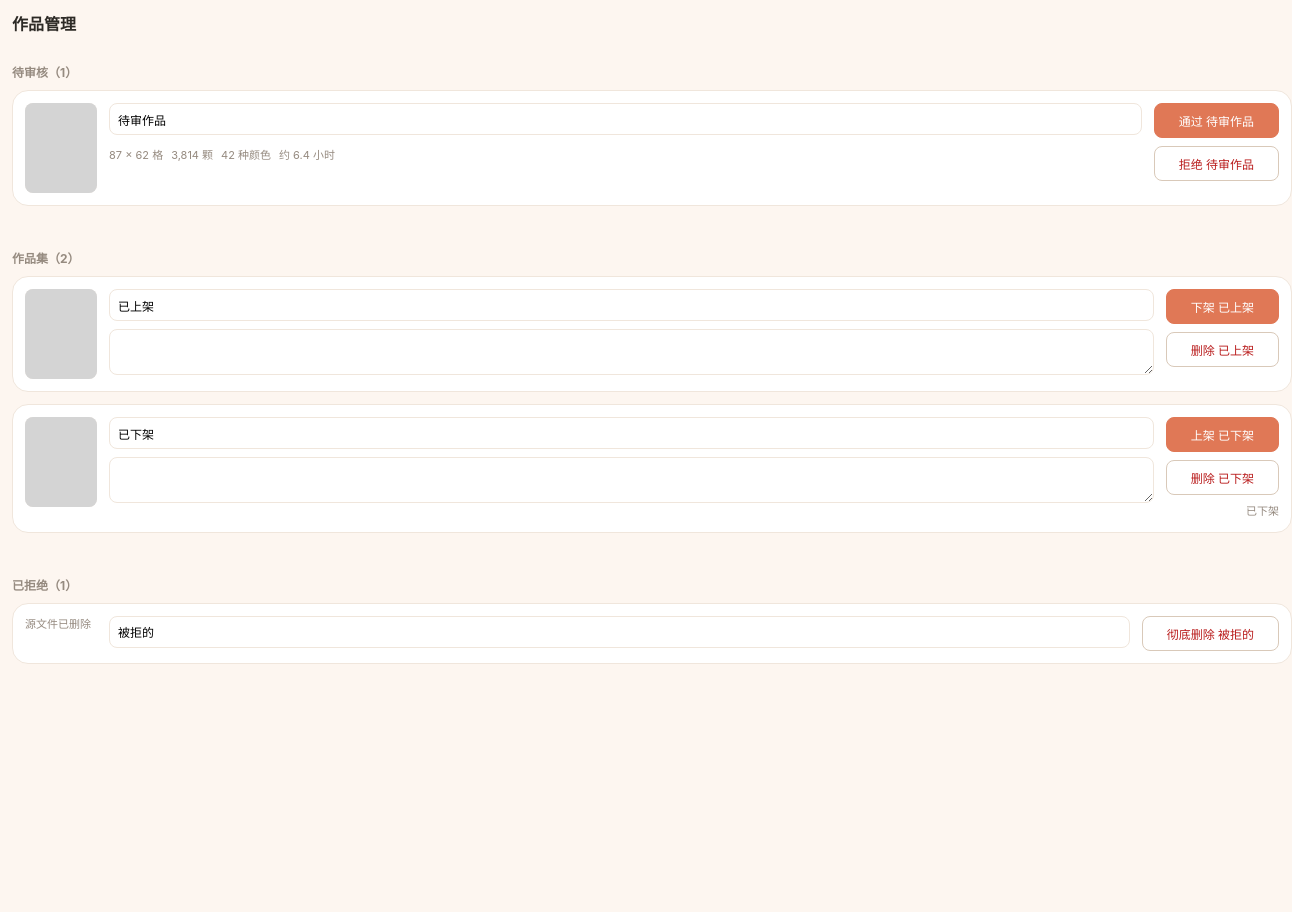
Test case: WorksTab 审核队列 › 点通过后行进入作品集并已上架
Click the button "通过 待审作品" at (1216, 120), box [1154,103,1279,138]
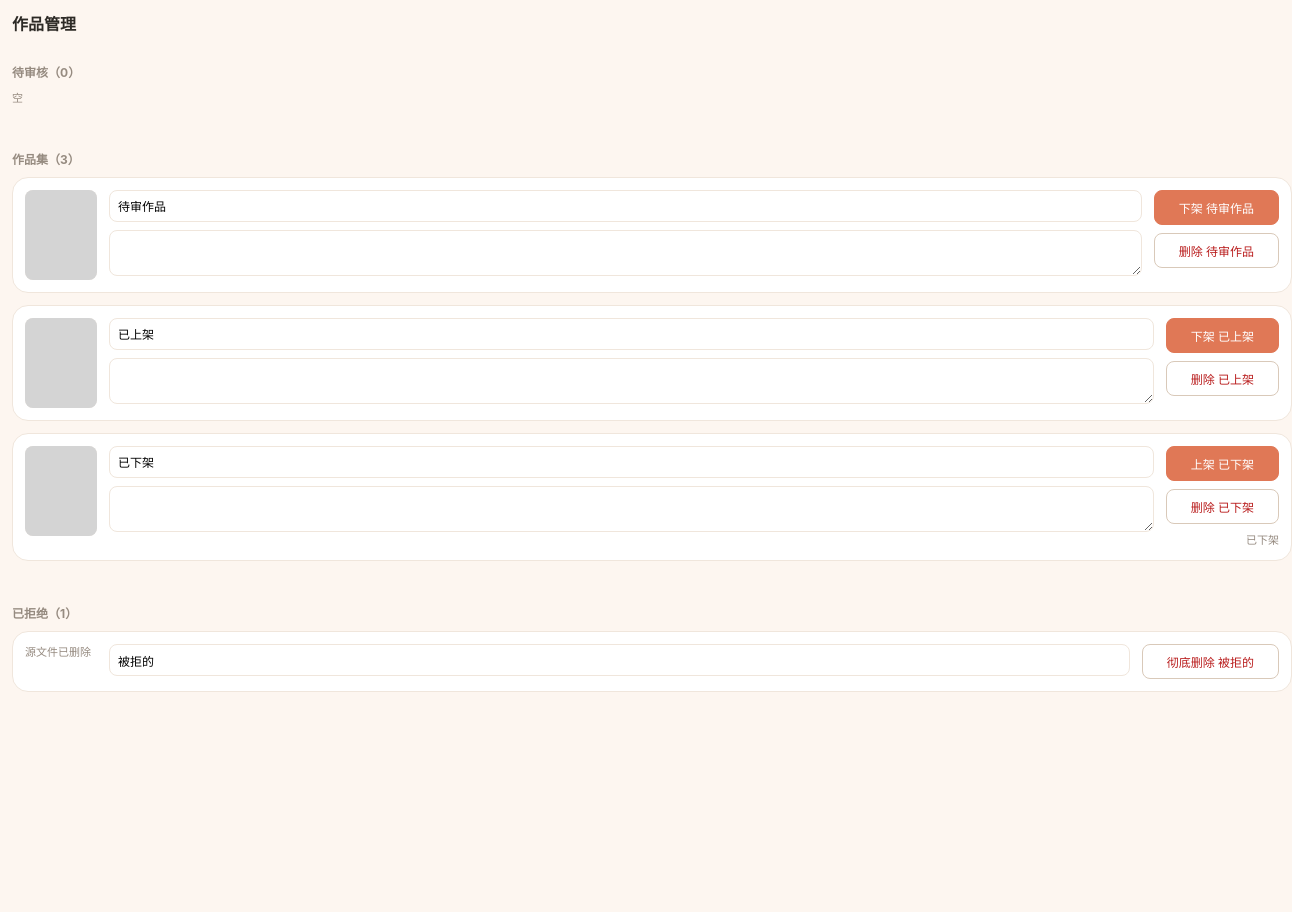
Expected: the button "通过 待审作品" is gone
Expected: the button "下架 待审作品" is shown, [1154,190,1279,224]
